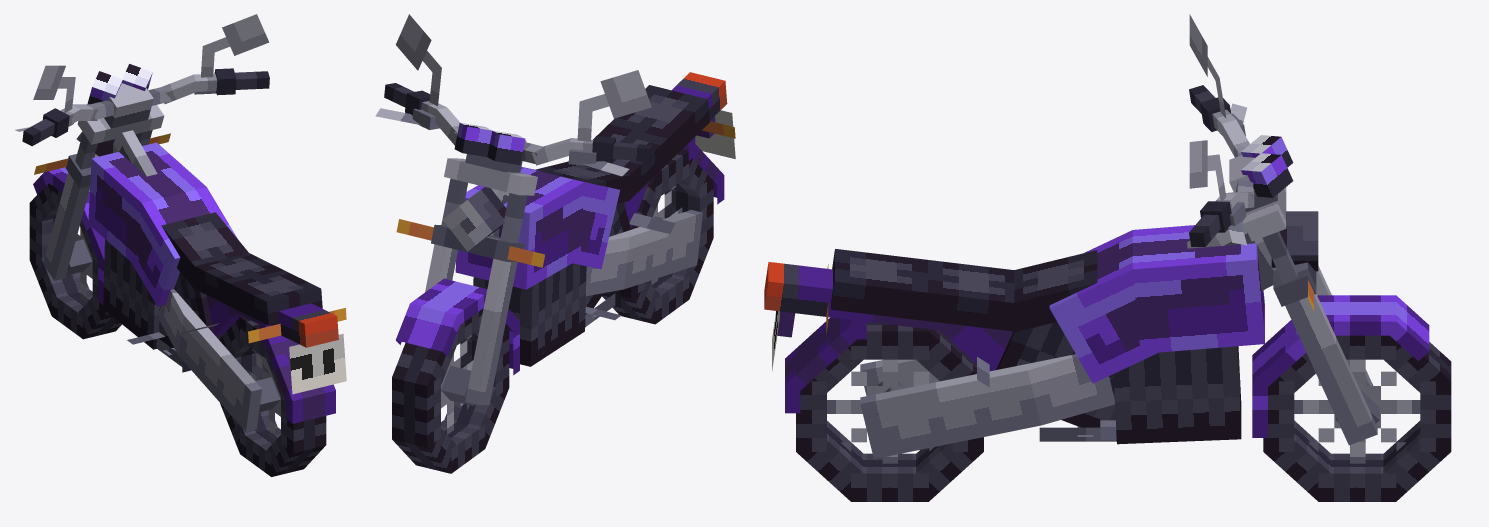
The model's file is electric-bike.glb.
3 renders of one model, left to right at view 1: azimuth 30°, elevation 25°; view 2: azimuth 150°, elevation 25°; view 3: azimuth 270°, elevation 25°, orthographic. The views are drawn at different scales.
Visible parts, largest first — view 1: cube (×49); view 2: cube (×52); view 3: cube (×43).
Part boxes in pixels (x1,y1,x2,y2): cube (×49): [22, 14, 346, 476]; cube (×52): [384, 14, 735, 473]; cube (×43): [764, 135, 1451, 501].
Size of the model in its own units: 1.41 by 1.93 by 2.85.
1 material, 1 textured.
